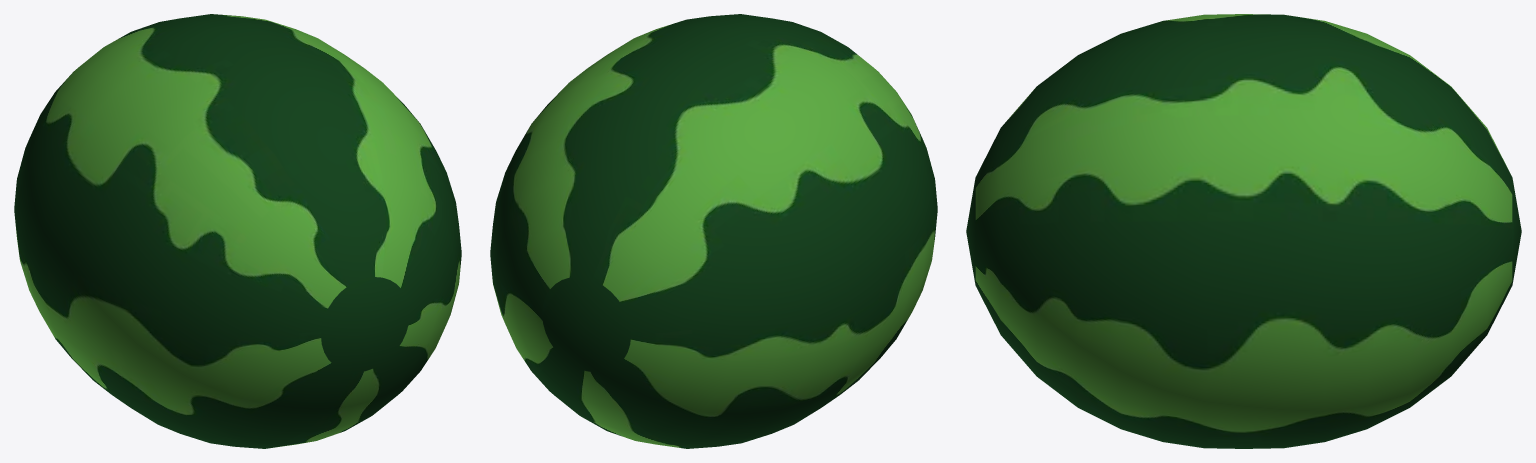
The model's file is New_watermelon_whole.fbx.
The picture shows the model from 3 angles, left to right: view 1: azimuth 30°, elevation 25°; view 2: azimuth 150°, elevation 25°; view 3: azimuth 270°, elevation 25°; orthographic projection. The views are drawn at different scales.
Visible parts, largest first — view 1: Watermelon_whole; view 2: Watermelon_whole; view 3: Watermelon_whole.
Part boxes in pixels (x1,y1,x2,y2): Watermelon_whole: (14, 14, 461, 448); Watermelon_whole: (490, 14, 937, 448); Watermelon_whole: (966, 14, 1521, 448).
Size of the model in its own units: 802 by 802 by 1024.
